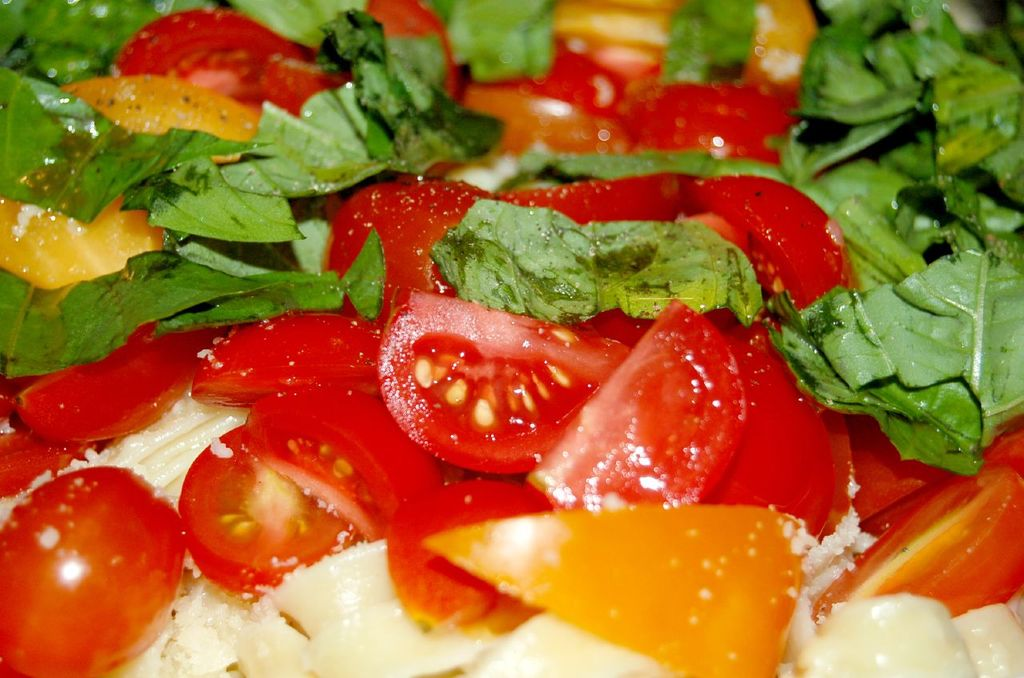Tomato: (0, 0, 1023, 677), (173, 382, 441, 603), (376, 281, 631, 475), (533, 299, 752, 510), (0, 461, 189, 677), (811, 465, 1018, 623), (13, 311, 214, 441), (691, 175, 854, 329), (189, 309, 384, 402), (111, 0, 307, 90), (624, 74, 799, 160), (508, 169, 691, 222), (476, 47, 616, 112)
